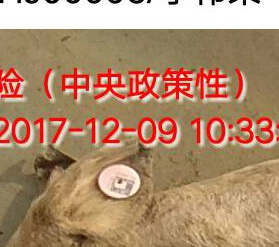text: (89, 154, 150, 208)
